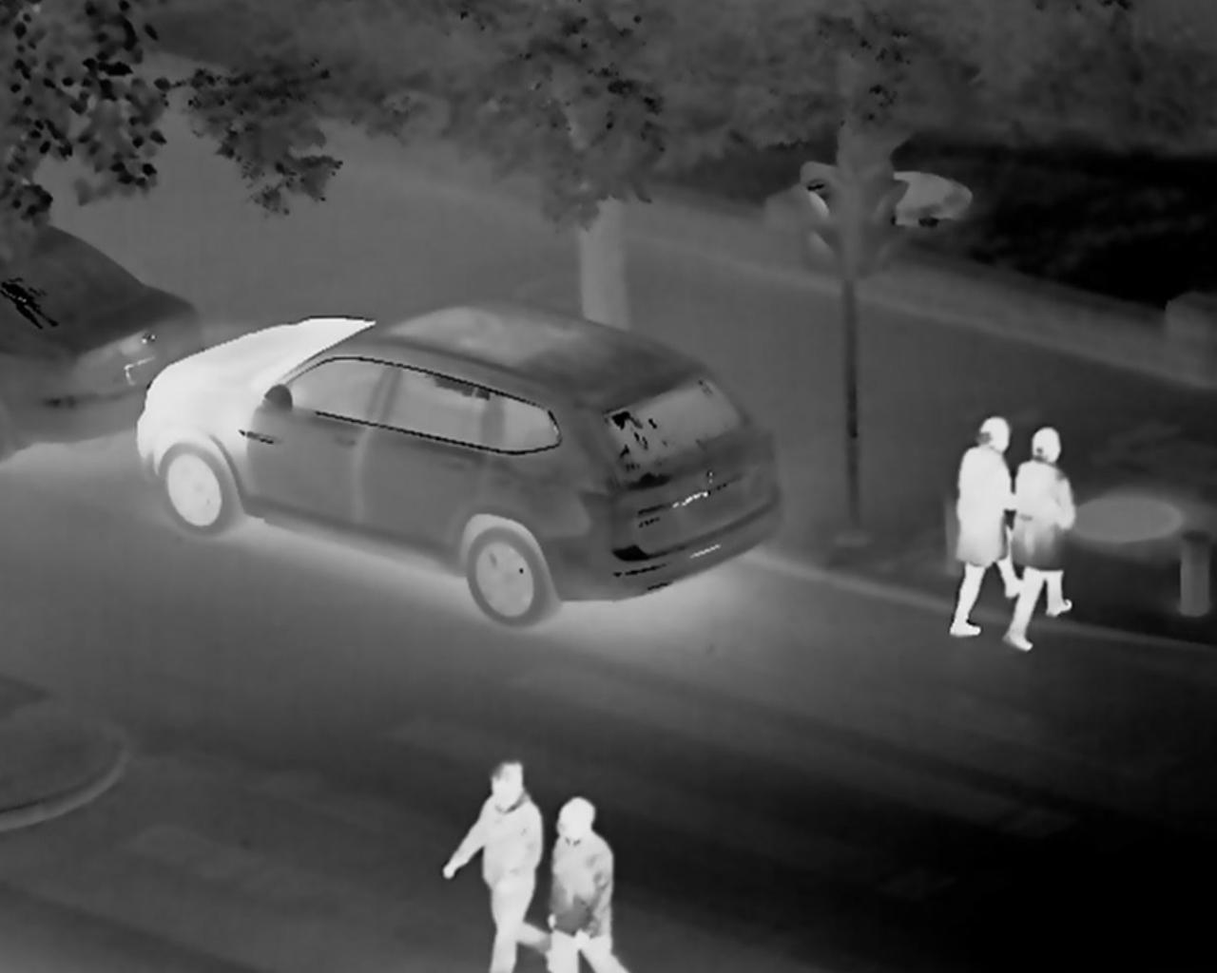person: (1019, 421, 1089, 681), (447, 761, 532, 964), (548, 794, 614, 962), (948, 399, 994, 640)
